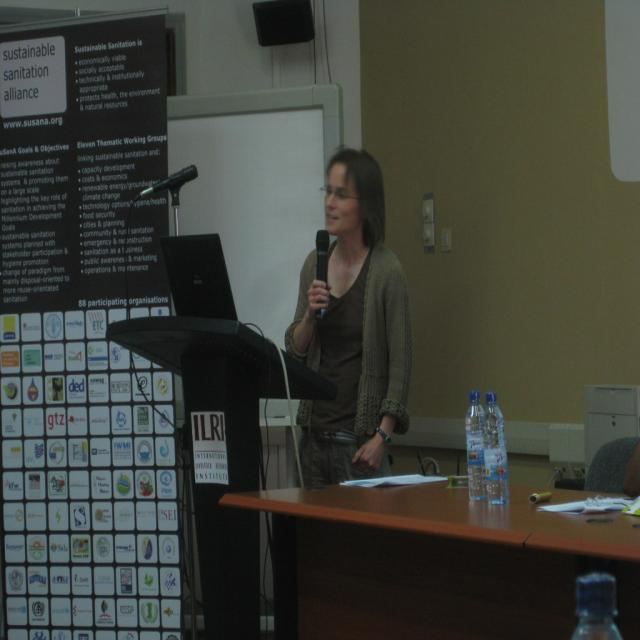desk: (207, 428, 640, 631)
person: (284, 146, 414, 483)
